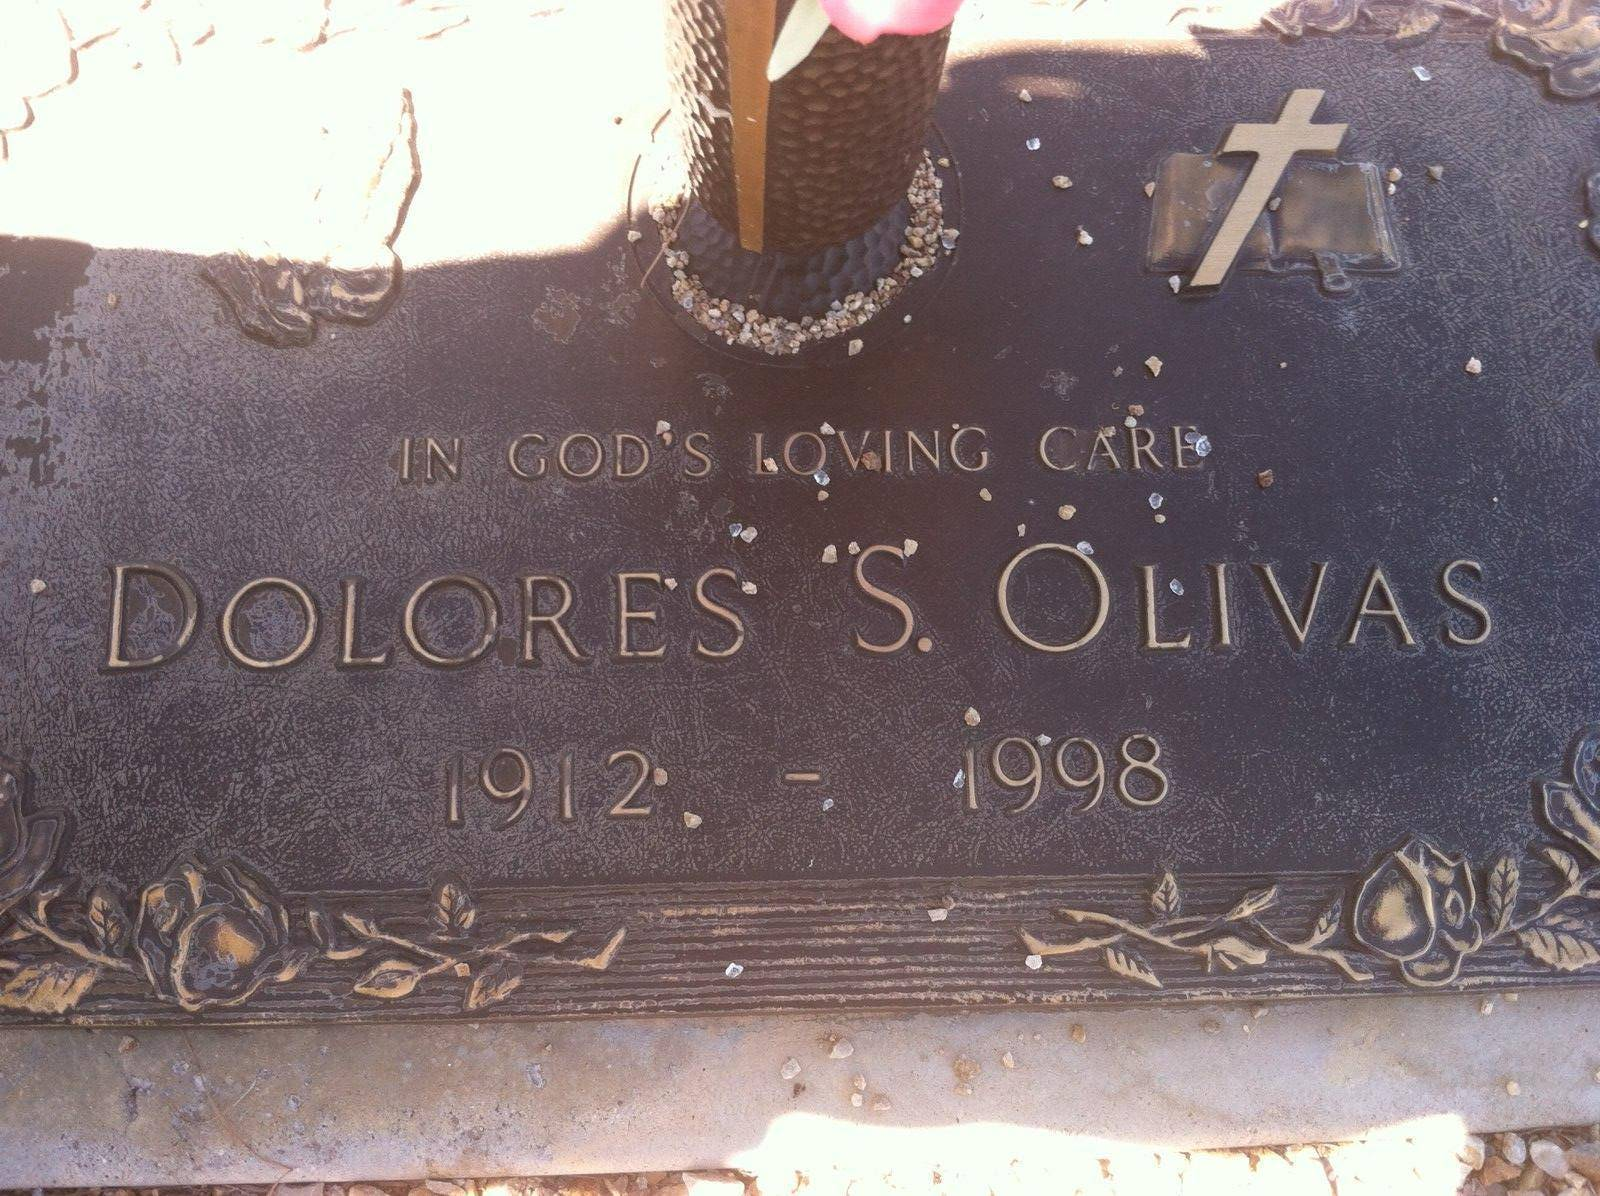flat: (0, 0, 1600, 1038)
